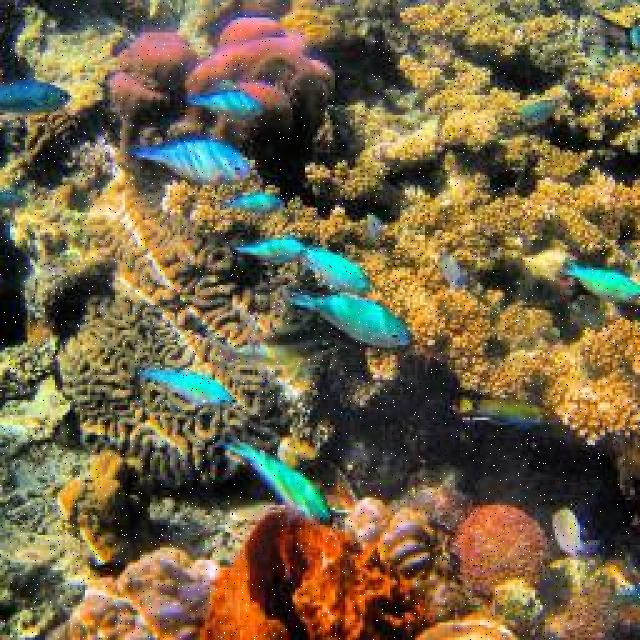fish: (225, 434, 331, 522), (281, 291, 413, 346), (125, 138, 253, 185), (555, 252, 638, 304), (137, 367, 238, 406), (297, 246, 367, 294), (180, 91, 262, 124), (549, 506, 602, 556), (0, 78, 73, 111), (232, 235, 308, 264), (224, 190, 280, 211)
reefs: (172, 0, 639, 453), (0, 110, 324, 496), (199, 511, 434, 638), (48, 546, 224, 638), (452, 501, 549, 593), (343, 495, 436, 587)
